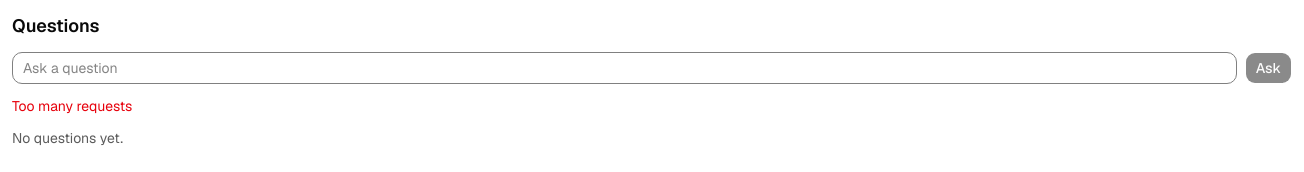
Scenario: QuestionsPanel › asks, and keeps the text when the question was not stored
This screenshot has width=1304, height=172.
Type "Why?" into the field named "Your question" at (624, 68), box [12, 52, 1237, 84]
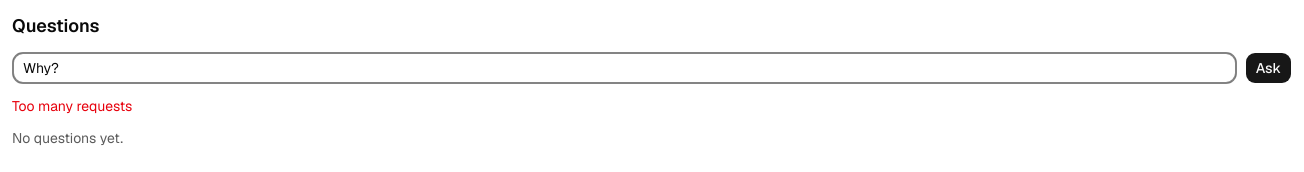
Click the button "Ask" at (1268, 68), box [1245, 52, 1292, 84]
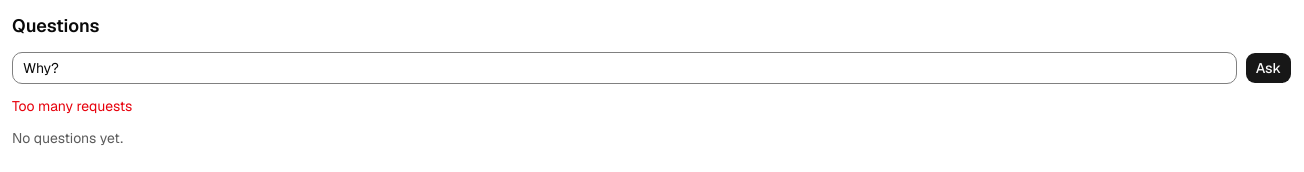
Click the button "Ask" at (1268, 68), box [1245, 52, 1292, 84]
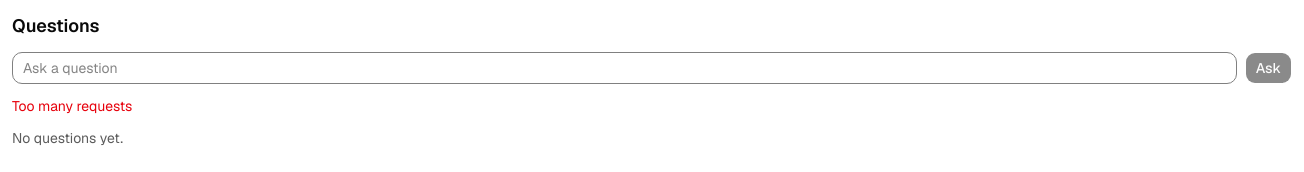
Check: the message reads "Too many requests", box [12, 97, 132, 115]
Check: the field named "Your question" is empty, box [12, 52, 1237, 84]
